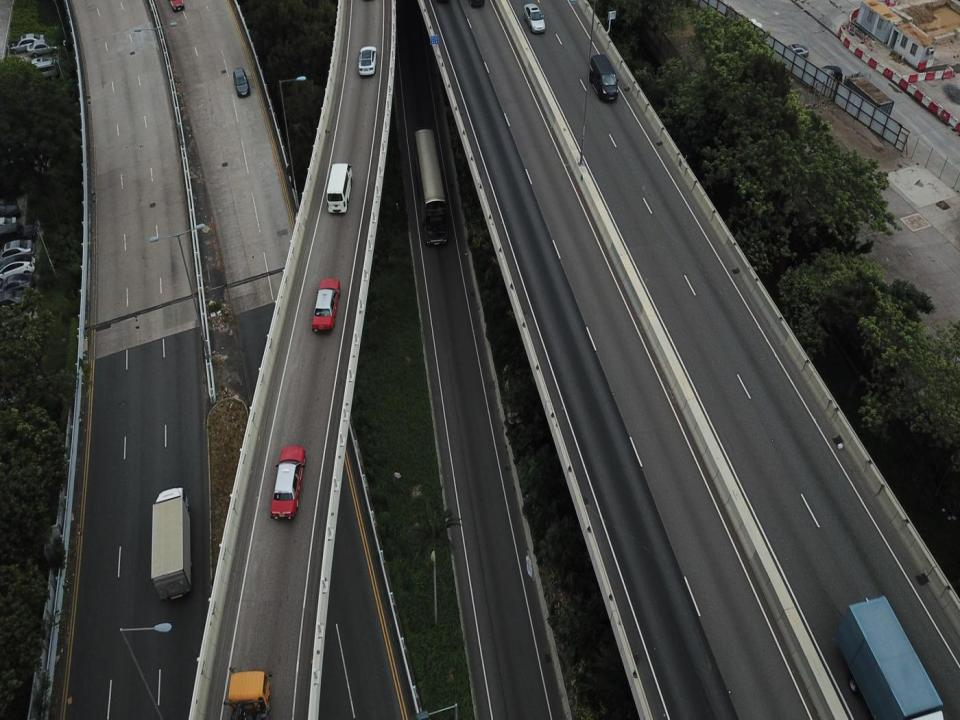bus: (411, 125, 452, 247)
car: (269, 445, 306, 521), (310, 276, 341, 332), (814, 62, 844, 89), (522, 4, 546, 36), (230, 66, 252, 100), (357, 41, 377, 78), (781, 41, 808, 62)
truck: (835, 596, 944, 719), (148, 485, 191, 606)
van: (324, 159, 354, 215), (589, 54, 620, 103)
